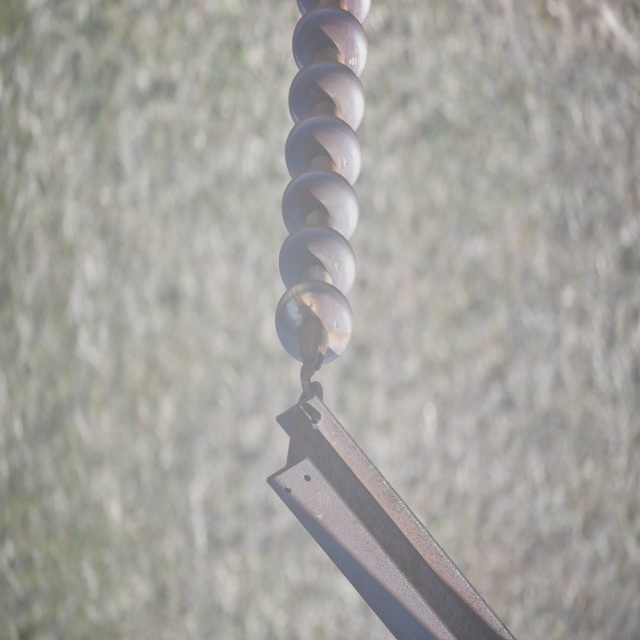insulator: (277, 0, 372, 365)
